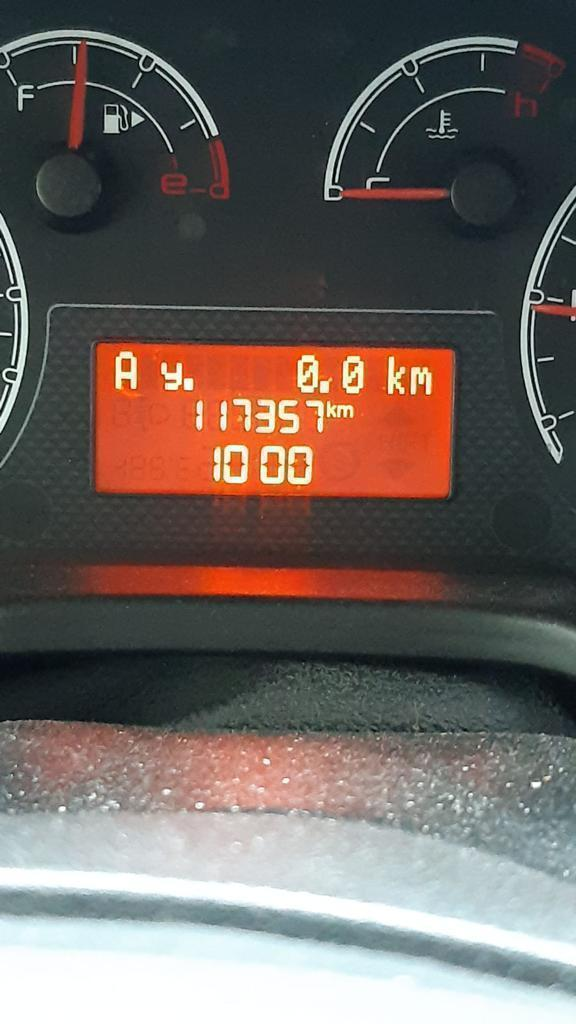,: (182, 375, 195, 393), (319, 377, 331, 396)
0: (257, 442, 286, 486), (287, 441, 314, 487), (222, 442, 250, 486), (340, 351, 366, 397), (293, 352, 319, 396)
1: (206, 444, 221, 484), (214, 396, 229, 433), (192, 396, 206, 434)
3: (253, 397, 275, 435)
5: (277, 397, 300, 435)
7: (302, 398, 325, 434), (230, 397, 252, 434)
X: (111, 348, 139, 391), (384, 352, 408, 397), (157, 357, 183, 392), (409, 362, 432, 397), (336, 403, 354, 419), (324, 397, 335, 419)
odometer: (84, 331, 460, 506)
